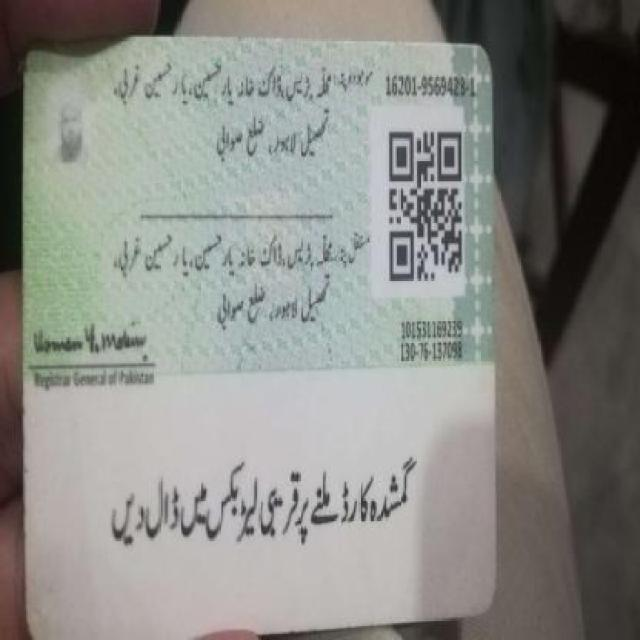Back: (11, 33, 500, 624)
